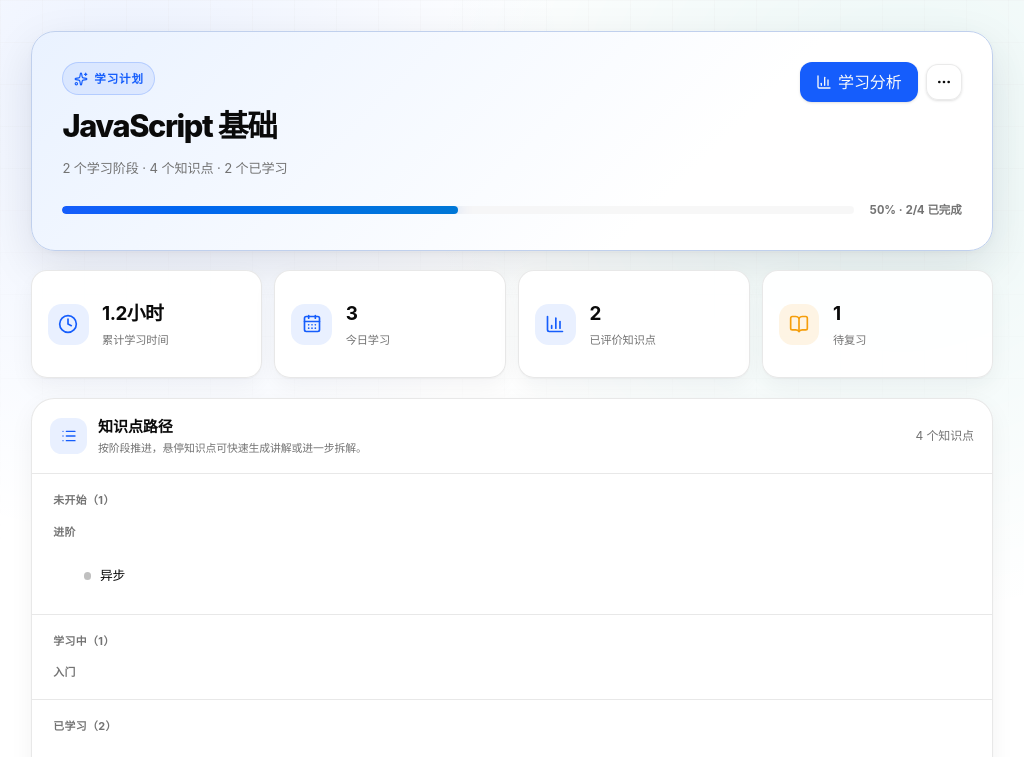
PlanView › renders action buttons
Expected: the button "学习分析" is shown, [800, 62, 918, 102]
remaining actions are in the "more" dropdown
Click the button titled "更多操作": (944, 82) [926, 64, 962, 100]
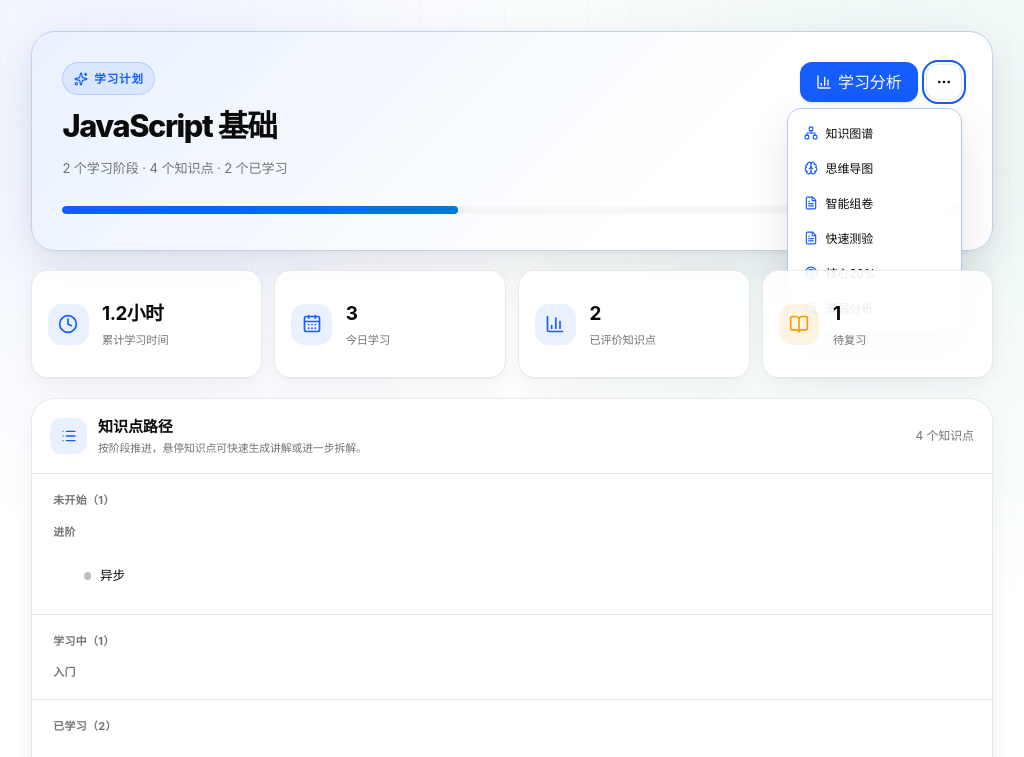
Result: the button "知识图谱" is shown at [794, 116, 954, 151]
Result: the button "快速测验" is shown at [794, 221, 954, 256]
Result: the button "核心20%" is shown at [794, 256, 954, 291]
